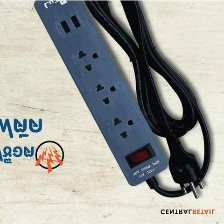three_eye_plug: (30, 0, 172, 187)
